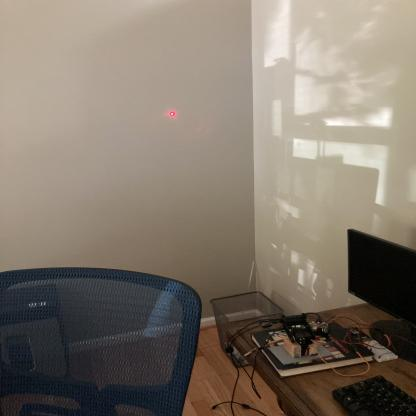target: (168, 108, 178, 120)
